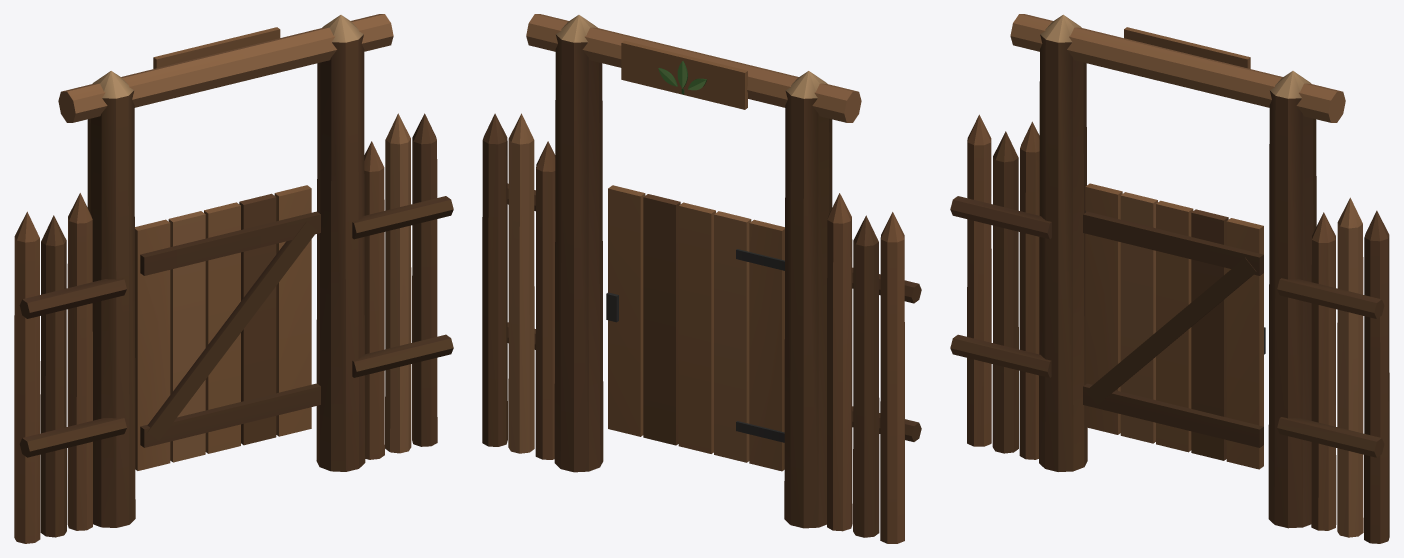
Rendered from fence_gate.glb.
3 renders of one model, left to right at view 1: azimuth 30°, elevation 25°; view 2: azimuth 150°, elevation 25°; view 3: azimuth 330°, elevation 25°, orthographic.
Parts seen in each view (by area): view 1: fence_gate, leaf; view 2: fence_gate, leaf; view 3: fence_gate, leaf.
Boxes of the visible parts, box(x1,y1,x2,y2) form: fence_gate: box(14, 14, 453, 543); leaf: box(135, 185, 320, 470); fence_gate: box(482, 14, 921, 543); leaf: box(606, 185, 784, 471); fence_gate: box(950, 14, 1389, 543); leaf: box(1083, 183, 1265, 469).
Size of the model in its own units: 2.4 by 2.42 by 0.2691.
